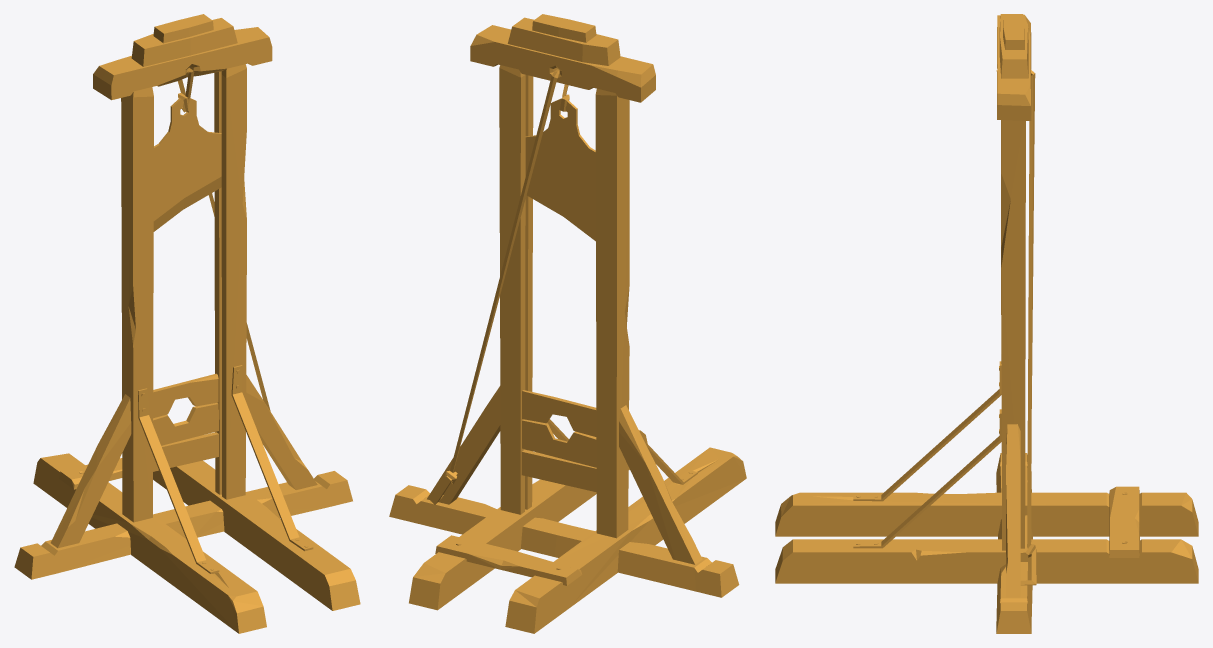
The model's file is guillotine.fbx.
3 renders of one model, left to right at view 1: azimuth 30°, elevation 25°; view 2: azimuth 150°, elevation 25°; view 3: azimuth 270°, elevation 25°, orthographic. The views are drawn at different scales.
Visible parts, largest first — view 1: guillotine; view 2: guillotine; view 3: guillotine.
Boxes of the visible parts, box(x1,y1,x2,y2) form: guillotine: box(14, 14, 360, 633); guillotine: box(389, 14, 746, 633); guillotine: box(775, 14, 1198, 633).
Bounding box in the file's own units: 2.43 × 3.69 × 2.7.
